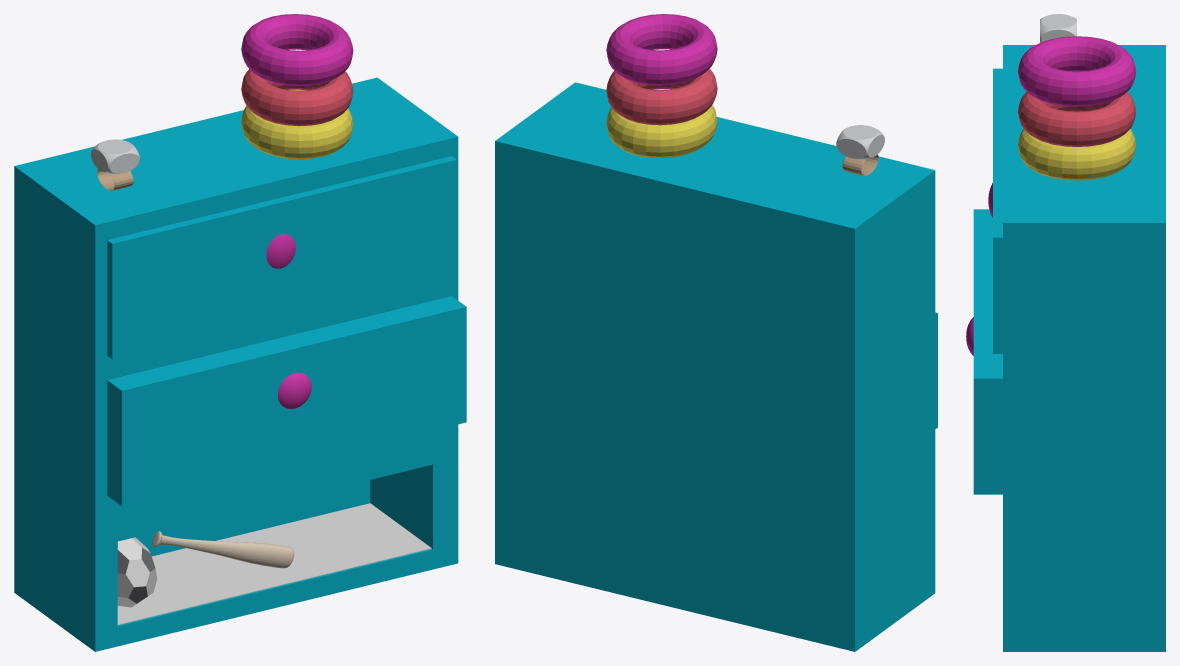
The model's file is table.glb.
The picture shows the model from 3 angles, left to right: view 1: azimuth 30°, elevation 25°; view 2: azimuth 150°, elevation 25°; view 3: azimuth 270°, elevation 25°; orthographic projection.
Parts seen in each view (by area): view 1: Mesh_Mesh_head_geo.001_lambert2SG.001; view 2: Mesh_Mesh_head_geo.001_lambert2SG.001; view 3: Mesh_Mesh_head_geo.001_lambert2SG.001.
Boxes of the visible parts, x1,y1,x2,y2 form: Mesh_Mesh_head_geo.001_lambert2SG.001: (14, 14, 466, 651); Mesh_Mesh_head_geo.001_lambert2SG.001: (495, 14, 937, 651); Mesh_Mesh_head_geo.001_lambert2SG.001: (966, 14, 1165, 651).
Size of the model in its own units: 57 by 80 by 27.
